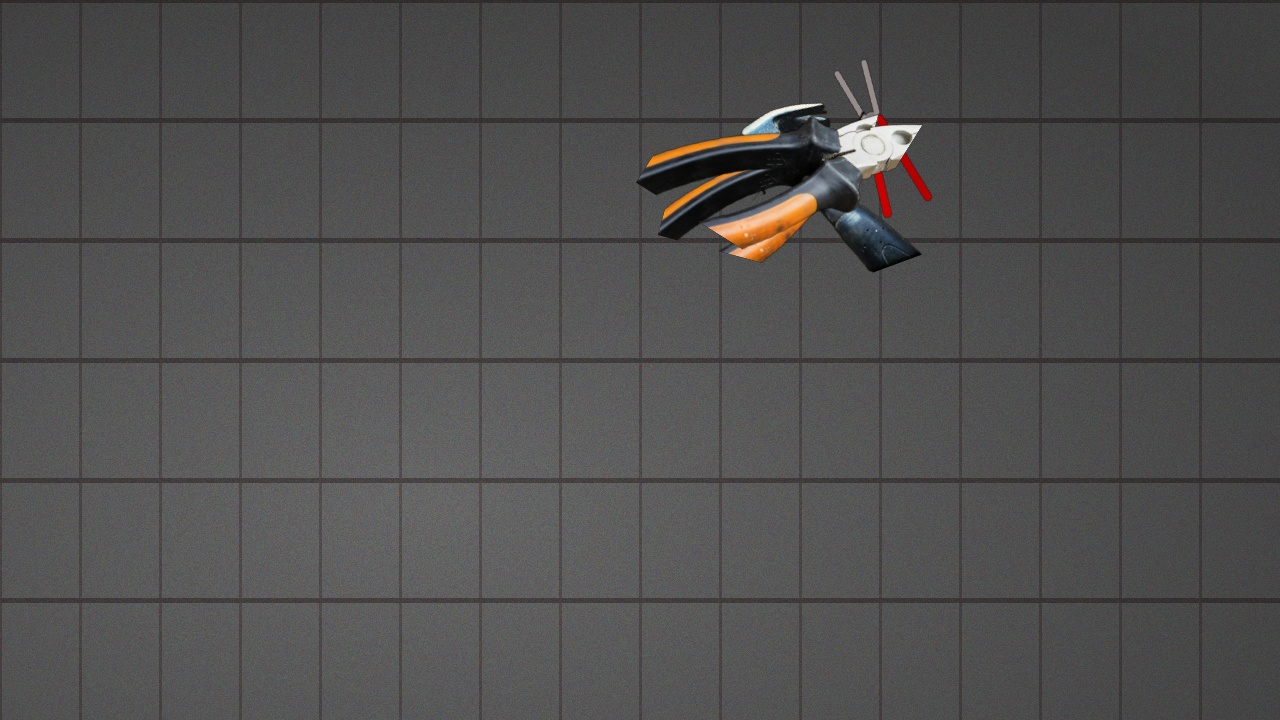hammer: (703, 100, 923, 274)
pliers: (634, 114, 923, 251), (656, 112, 879, 264), (832, 57, 934, 220)
